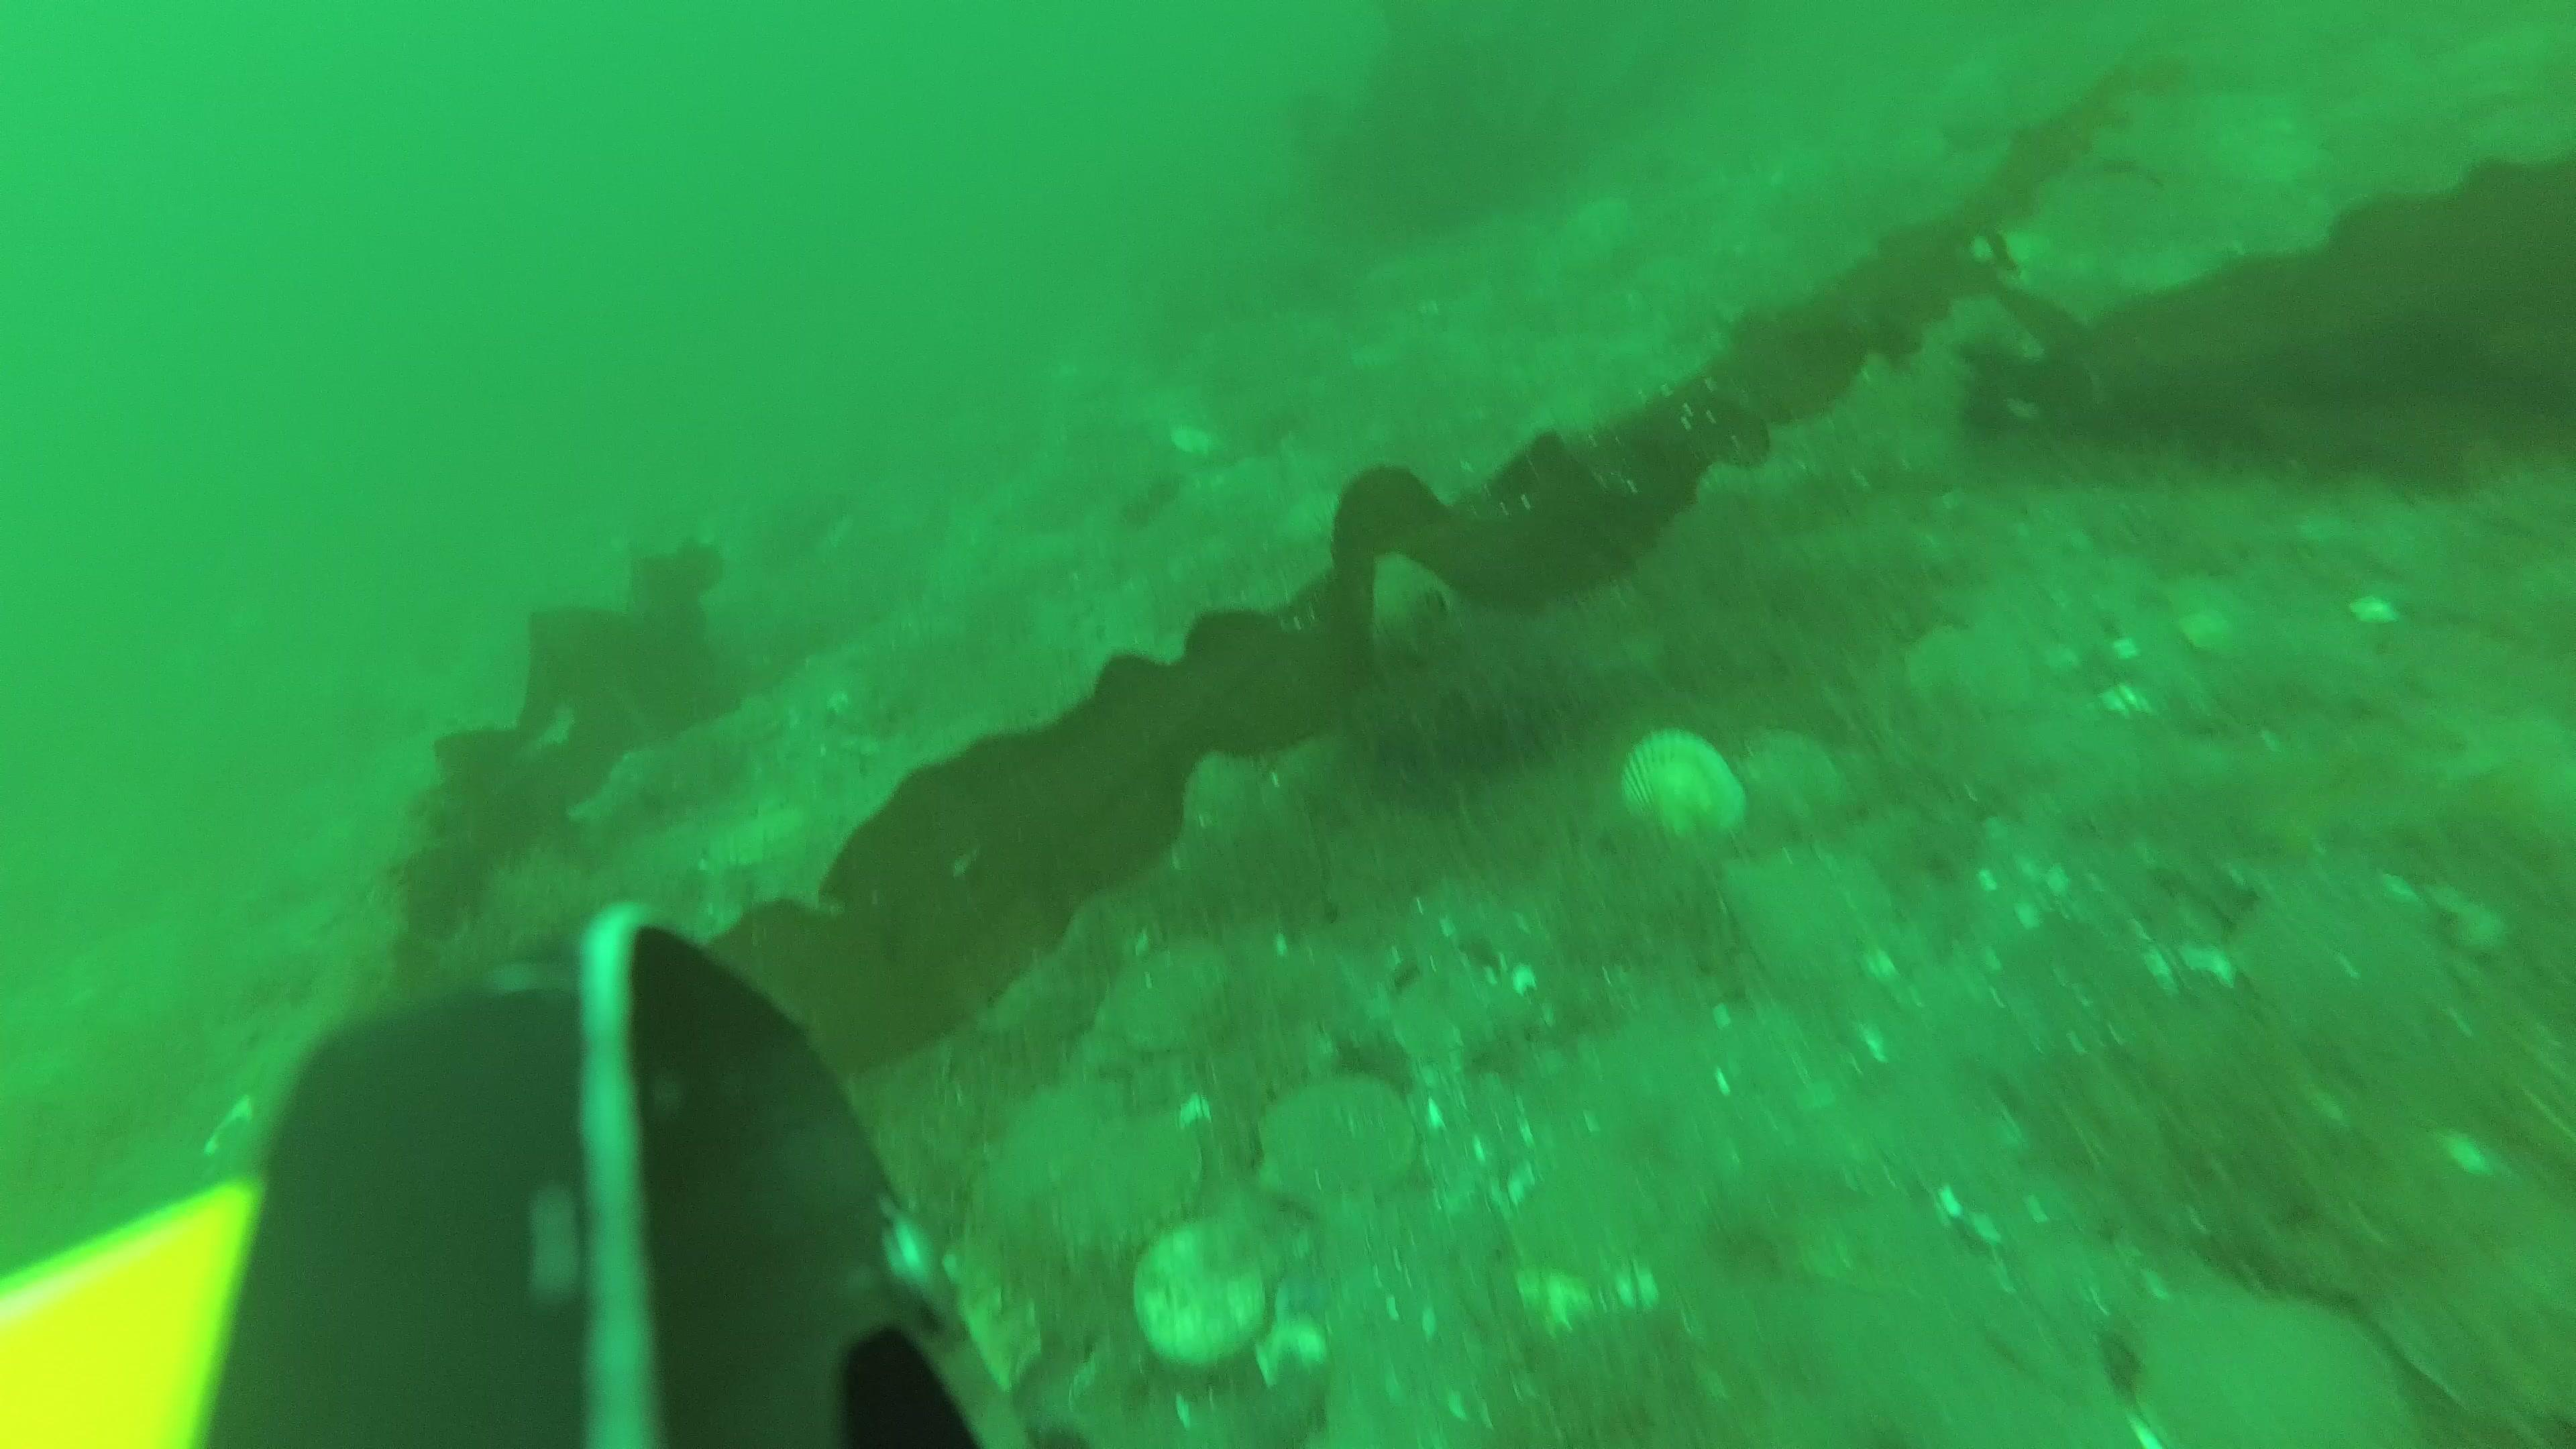scallop: (2135, 1279, 2401, 1449), (2240, 872, 2442, 1040), (1721, 847, 1893, 1005), (1265, 1072, 1414, 1219), (1058, 1118, 1210, 1249), (1138, 1226, 1272, 1369), (989, 1085, 1132, 1203), (1389, 952, 1522, 1074), (1626, 729, 1746, 856), (1913, 619, 2049, 727), (1108, 947, 1237, 1047), (1736, 732, 1831, 855)
